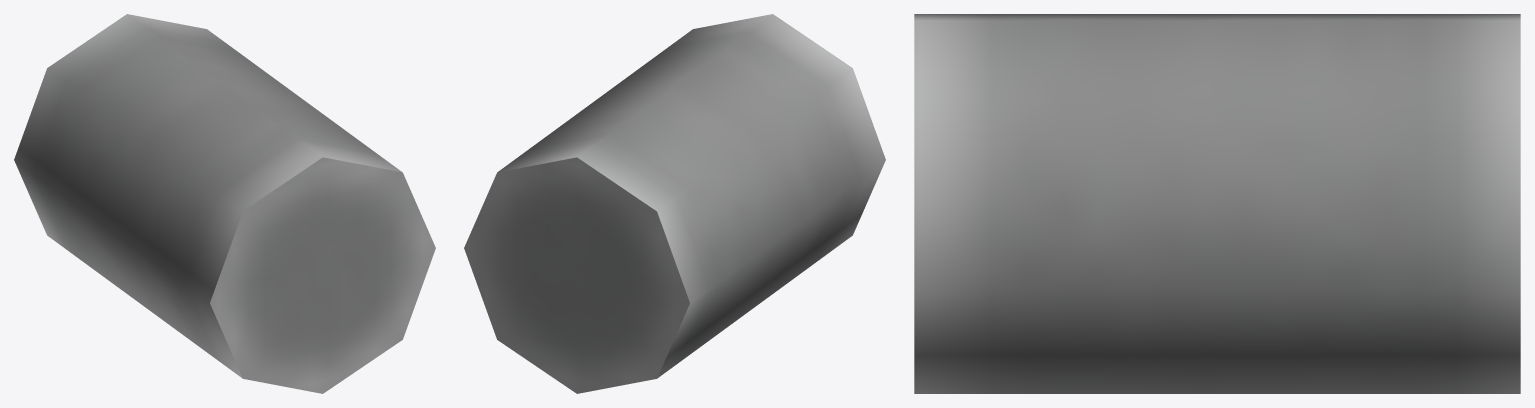
Rendered from dalim_solar_srf_1_base.obj.
The picture shows the model from 3 angles, left to right: view 1: azimuth 30°, elevation 25°; view 2: azimuth 150°, elevation 25°; view 3: azimuth 270°, elevation 25°; orthographic projection. The views are drawn at different scales.
Visible parts, largest first — view 1: dalim_solar_srf_1_base; view 2: dalim_solar_srf_1_base; view 3: dalim_solar_srf_1_base.
Part boxes in pixels (x1,y1,x2,y2): dalim_solar_srf_1_base: (14, 14, 435, 393); dalim_solar_srf_1_base: (464, 14, 885, 393); dalim_solar_srf_1_base: (914, 14, 1520, 393).
Size of the model in its own units: 0.05 by 0.05 by 0.075.
